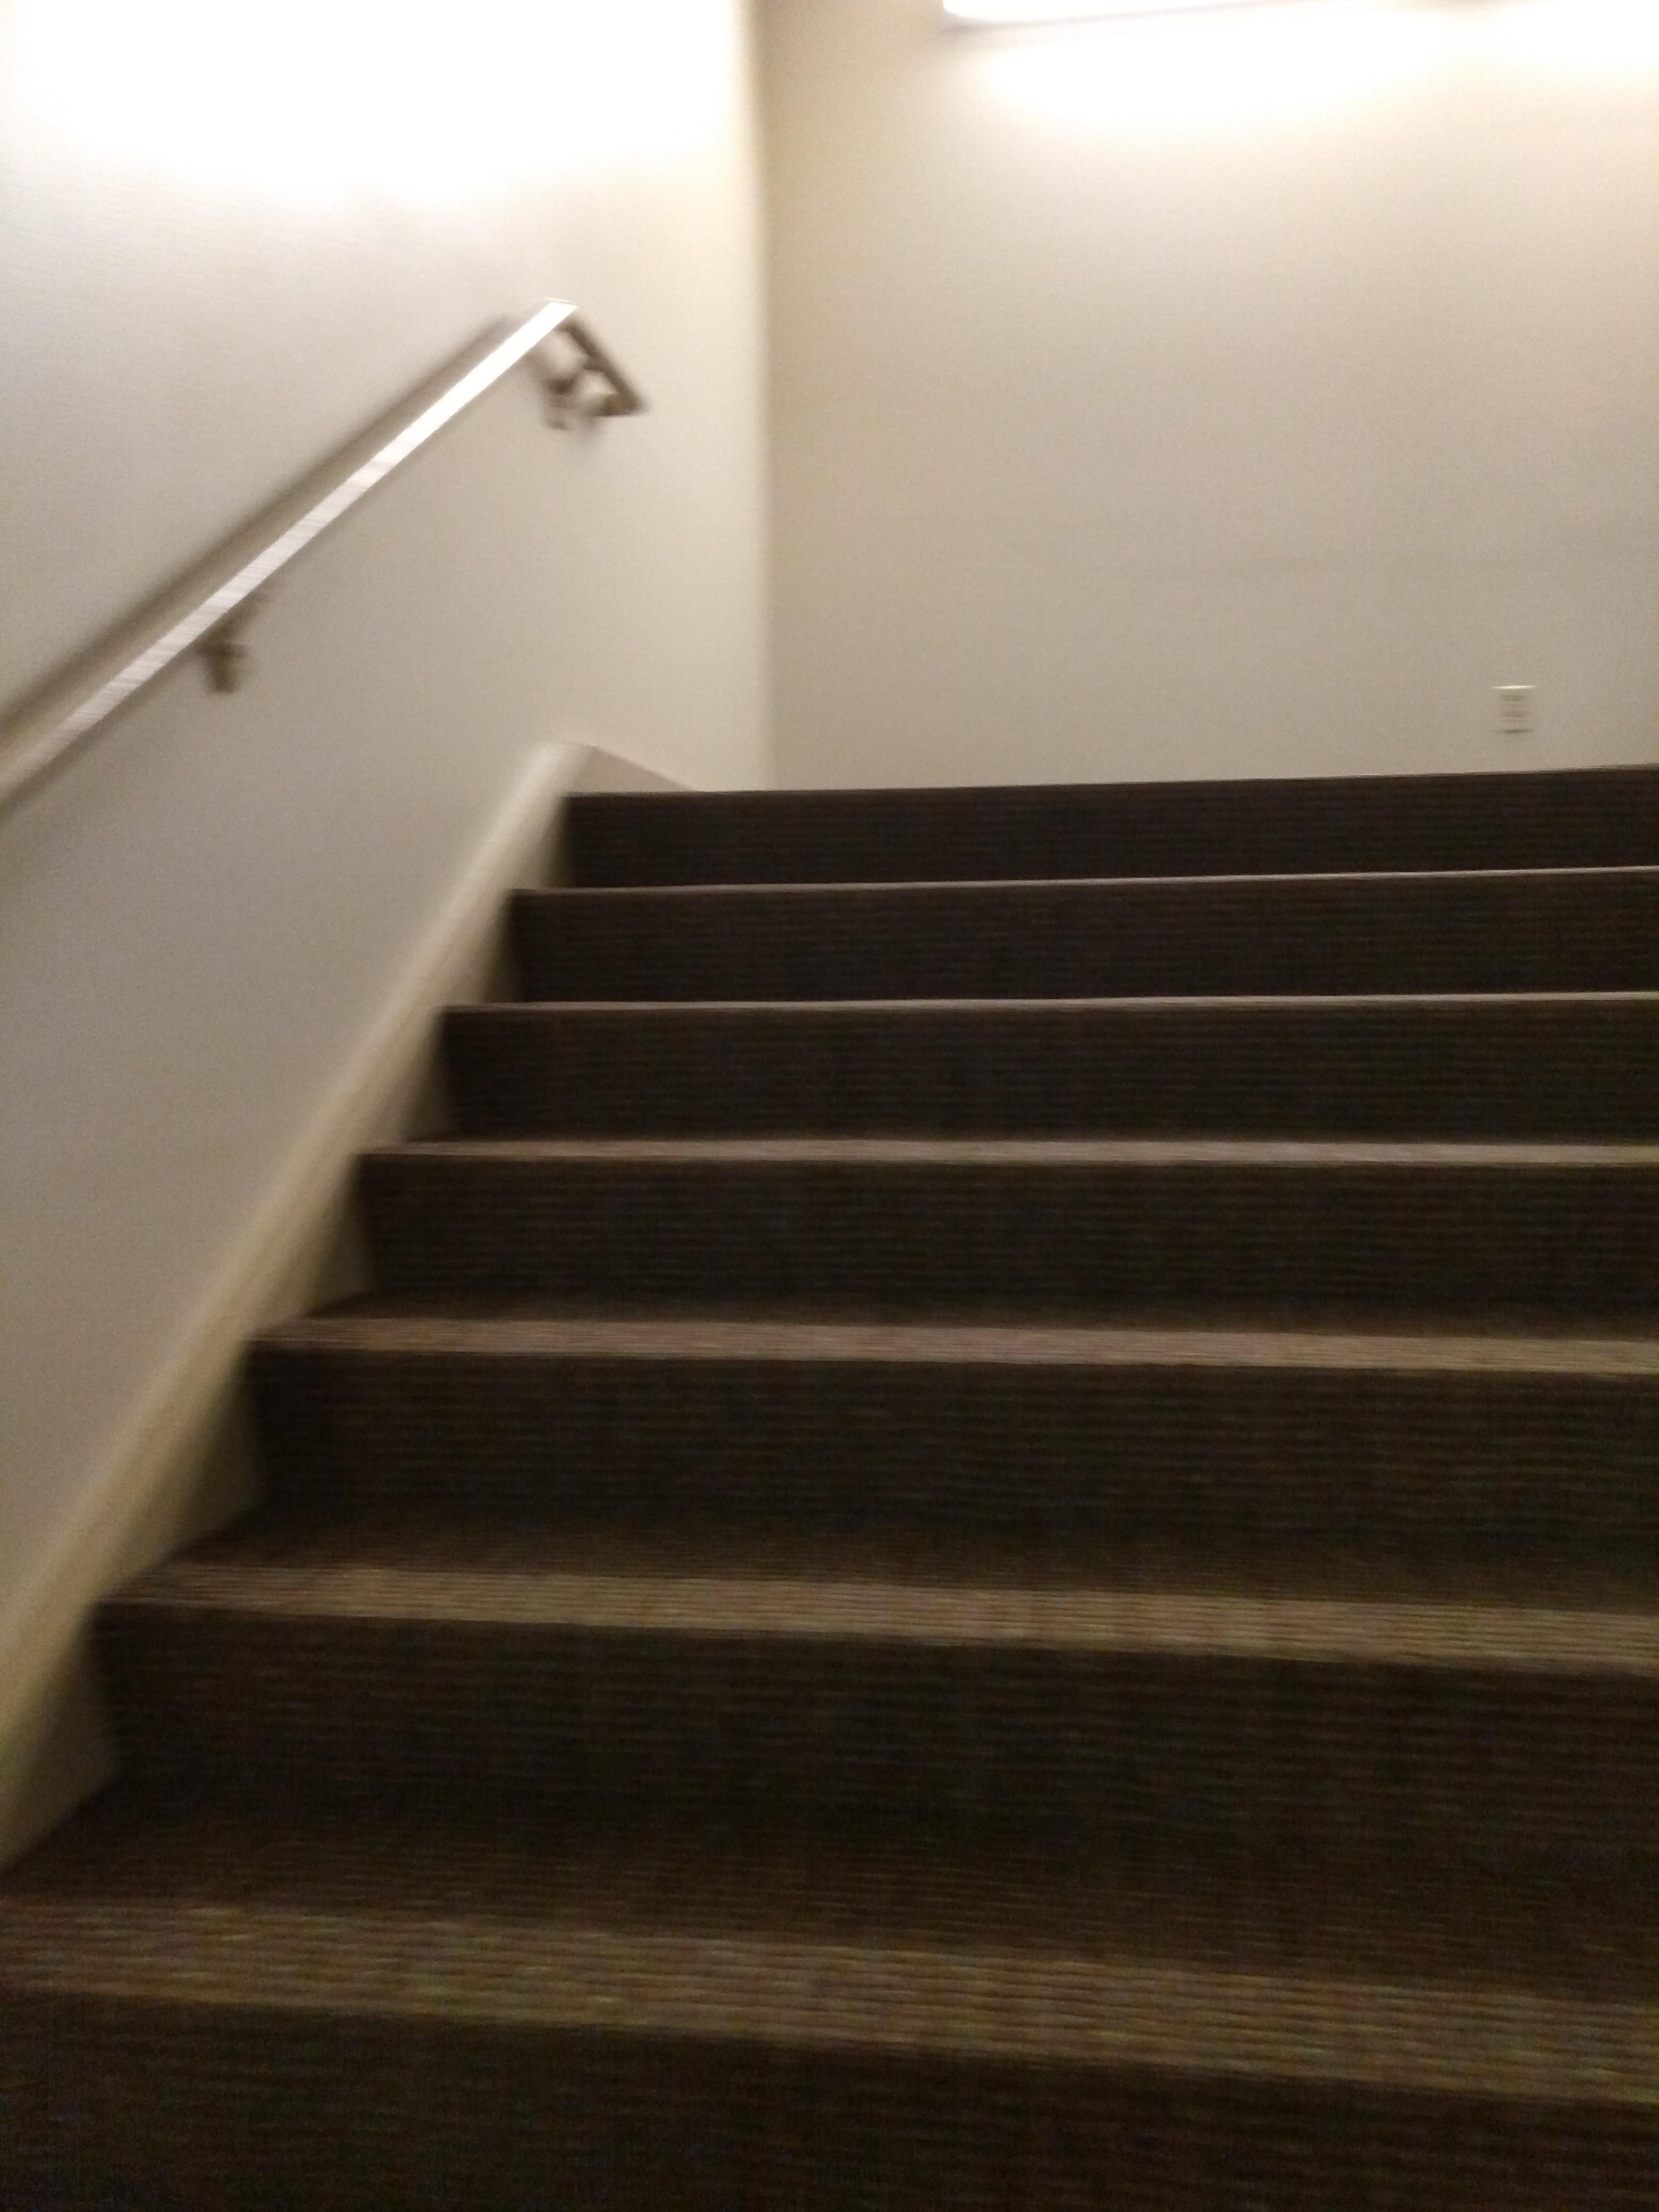stairs_up: (24, 704, 1654, 2125)
